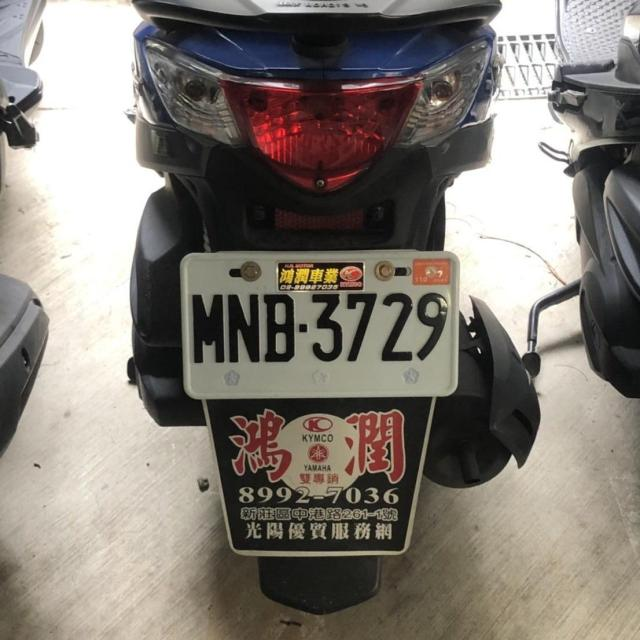W: (177, 244, 460, 400)
